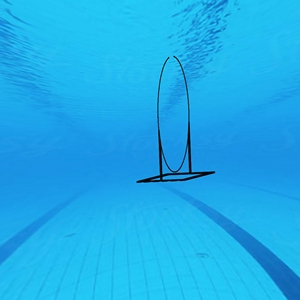circle: (134, 54, 218, 192)
